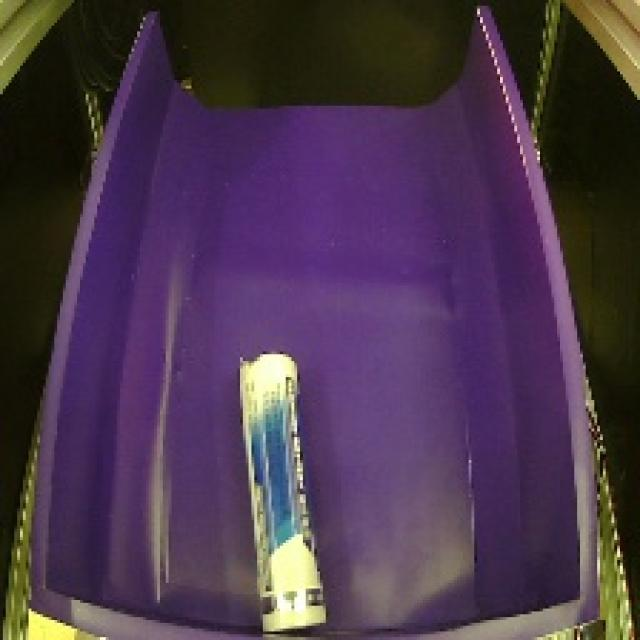battery: (230, 342, 338, 640)
